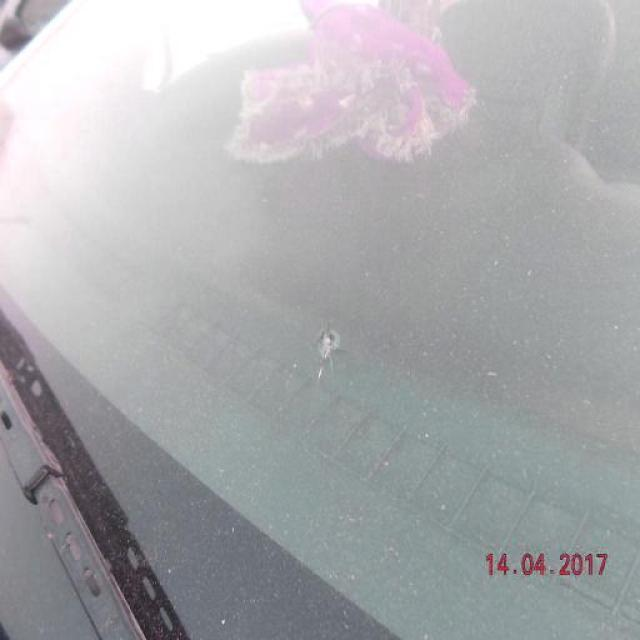car damage: (308, 318, 348, 372)
